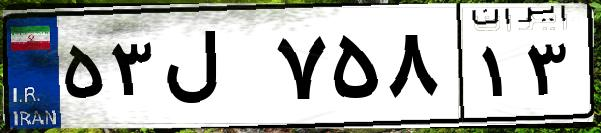1: (475, 38, 525, 113)
3: (525, 38, 570, 115), (110, 28, 158, 98)
5: (330, 28, 385, 110), (57, 26, 110, 100)
7: (270, 28, 330, 110)
8: (385, 28, 445, 110)
ل: (158, 20, 270, 120)
